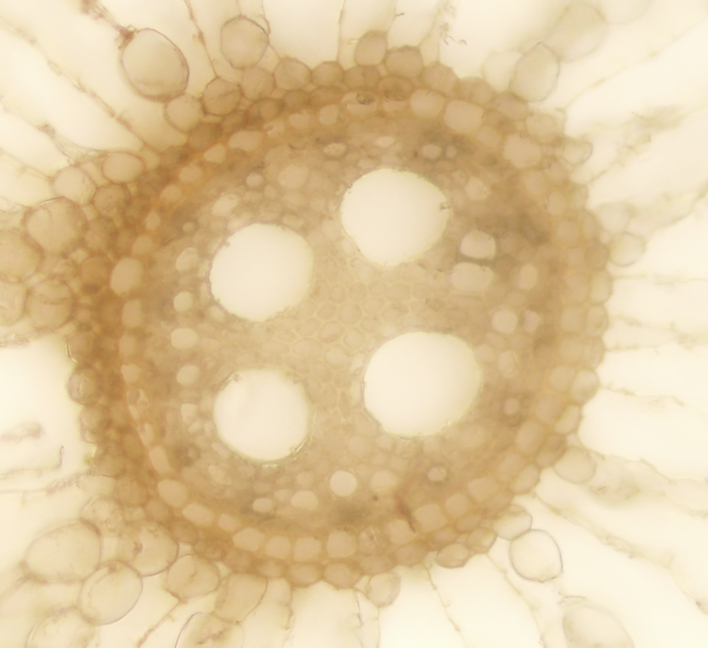lm: (360, 331, 481, 439), (340, 167, 450, 267), (208, 222, 319, 321), (212, 362, 314, 462)
